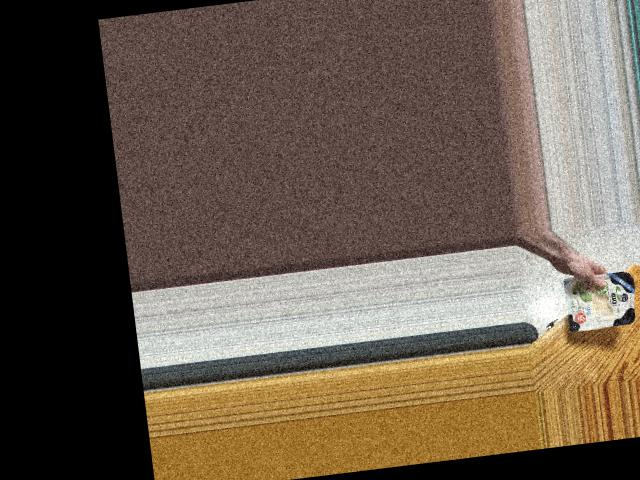cheese: (558, 266, 639, 332)
